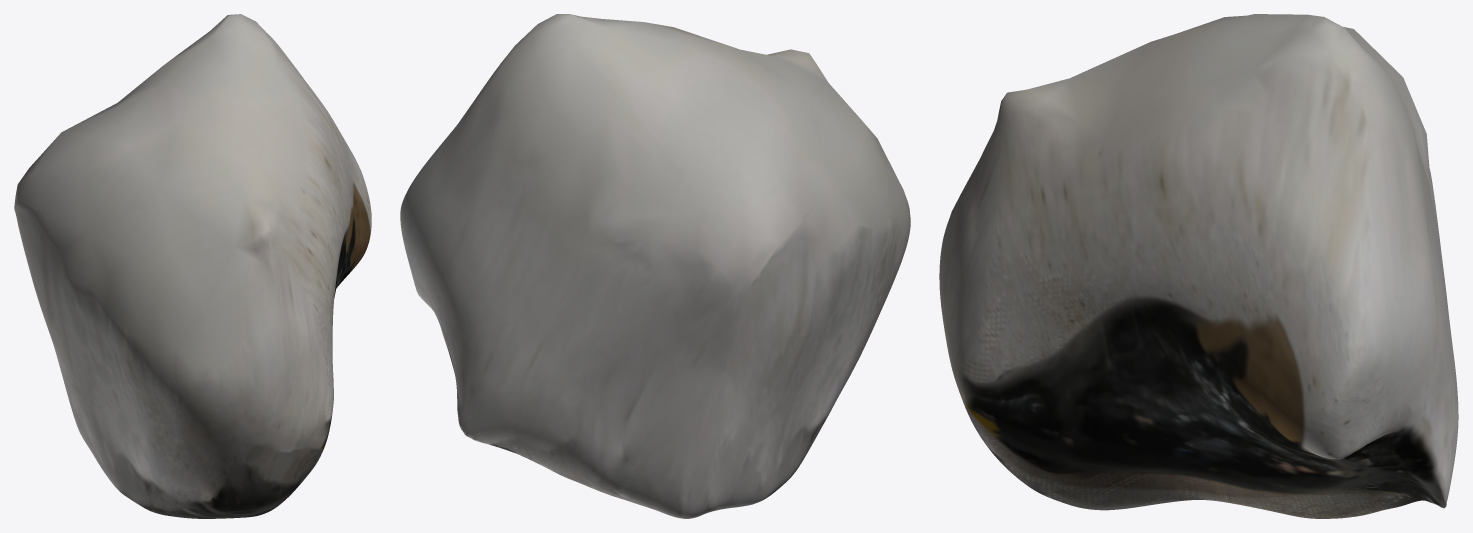
3 views of the same model, side by side, from view 1: azimuth 30°, elevation 25°; view 2: azimuth 150°, elevation 25°; view 3: azimuth 270°, elevation 25° (orthographic). The views are drawn at different scales.
Size of the model in its own units: 0.2258 by 0.2666 by 0.2265.
Materials: 1 (1 with a texture image).
